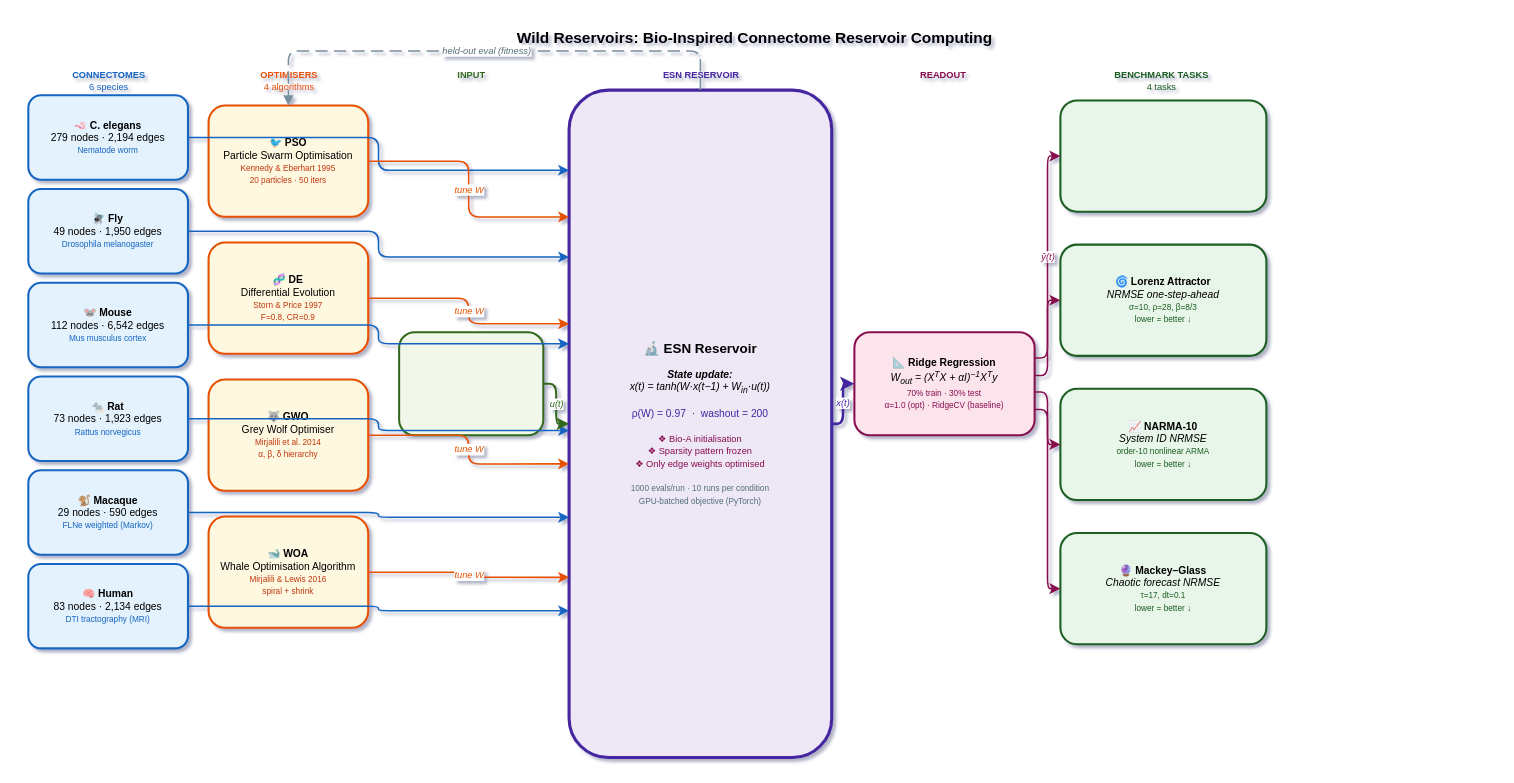
The diagram is 1514 pixels wide and 783 high, and some of its shapes have lost their labels. Each missing label, with the centre of its shape:
📊 Memory Capacity MC = ∑ r²(û(t−k), u(t−k)) k = 1..50 · higher = better ↑: (x=1163, y=155)
📥 Input Signal u(t) u(t) ~ U(-1,1) [MC] Lorenz / NARMA / MG: (x=471, y=383)
